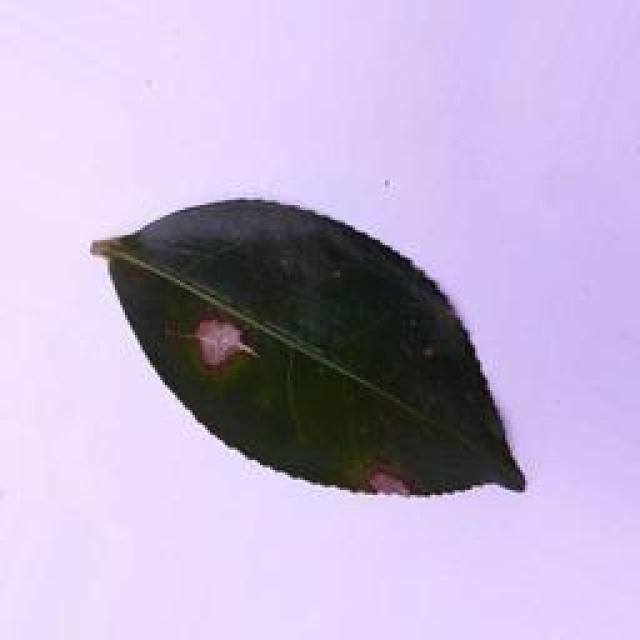Gray Blight: (78, 196, 528, 504)
